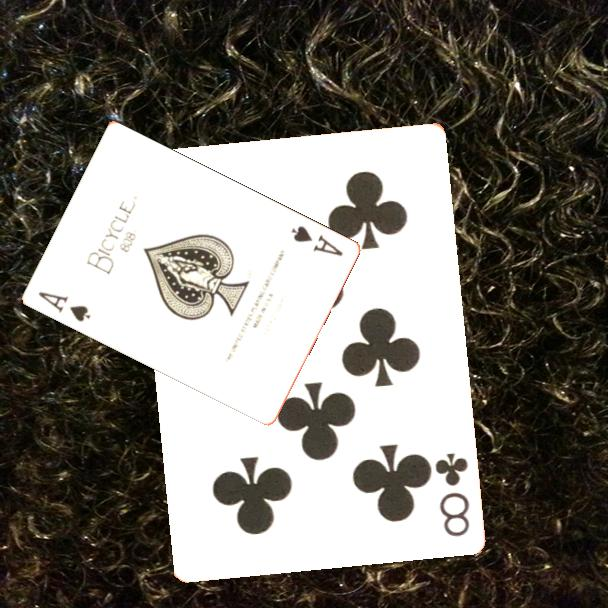c08: (431, 449, 472, 539)
s01: (34, 288, 93, 325), (287, 222, 345, 259)
